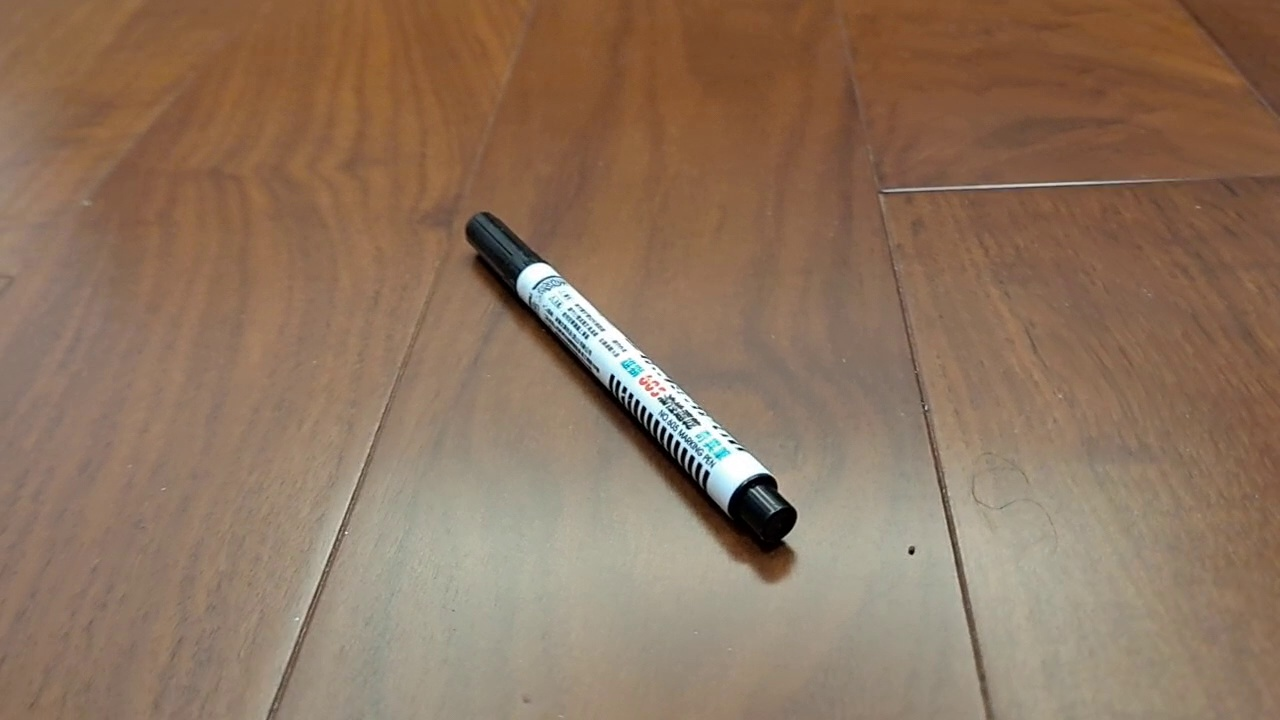pen: (464, 210, 798, 544)
